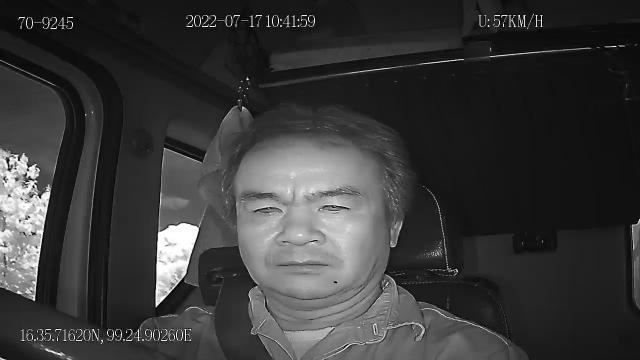SafeDriving: (309, 194, 362, 219), (243, 194, 289, 220)
Seatbelt: (214, 276, 274, 360)
